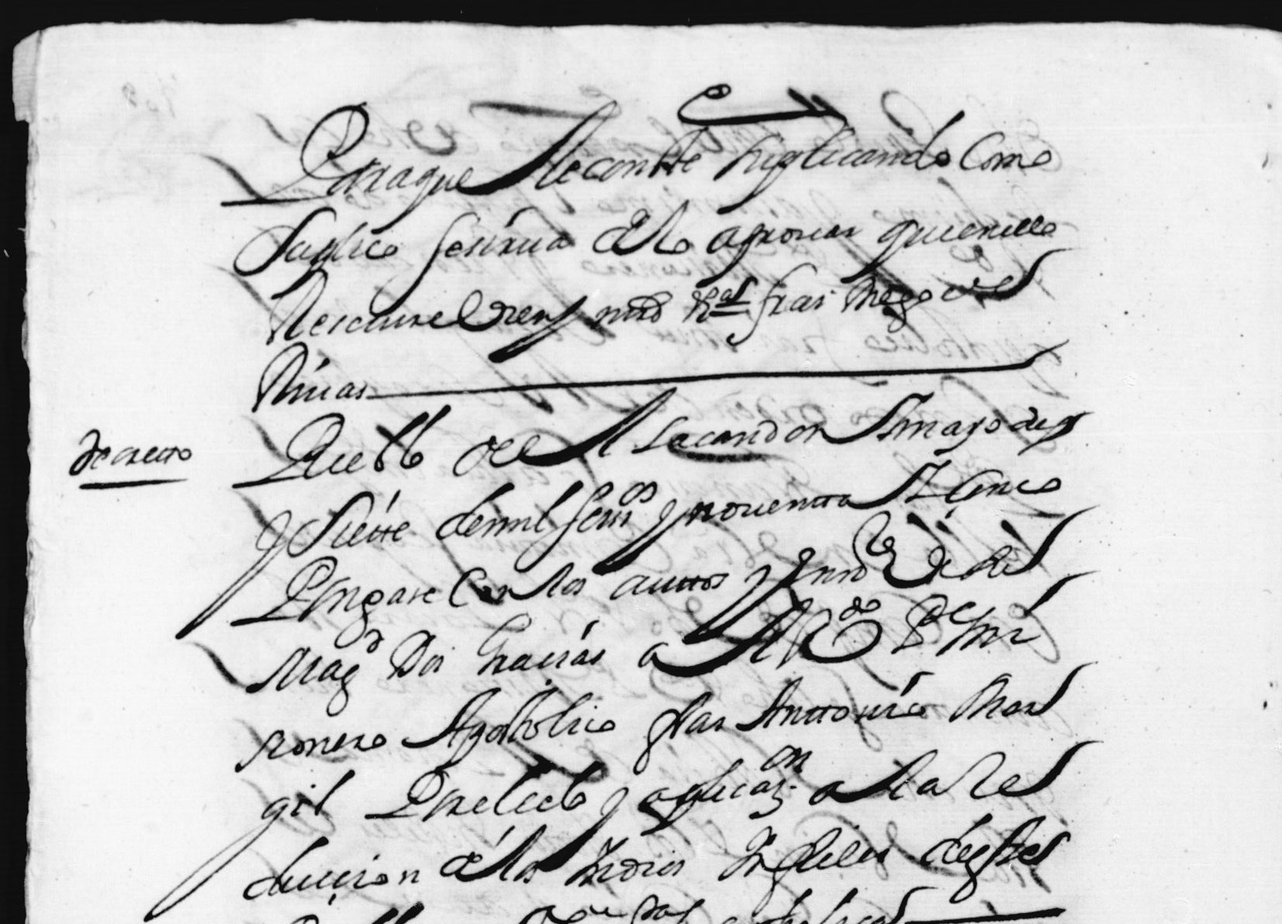lacandon: (631, 416, 868, 453)
